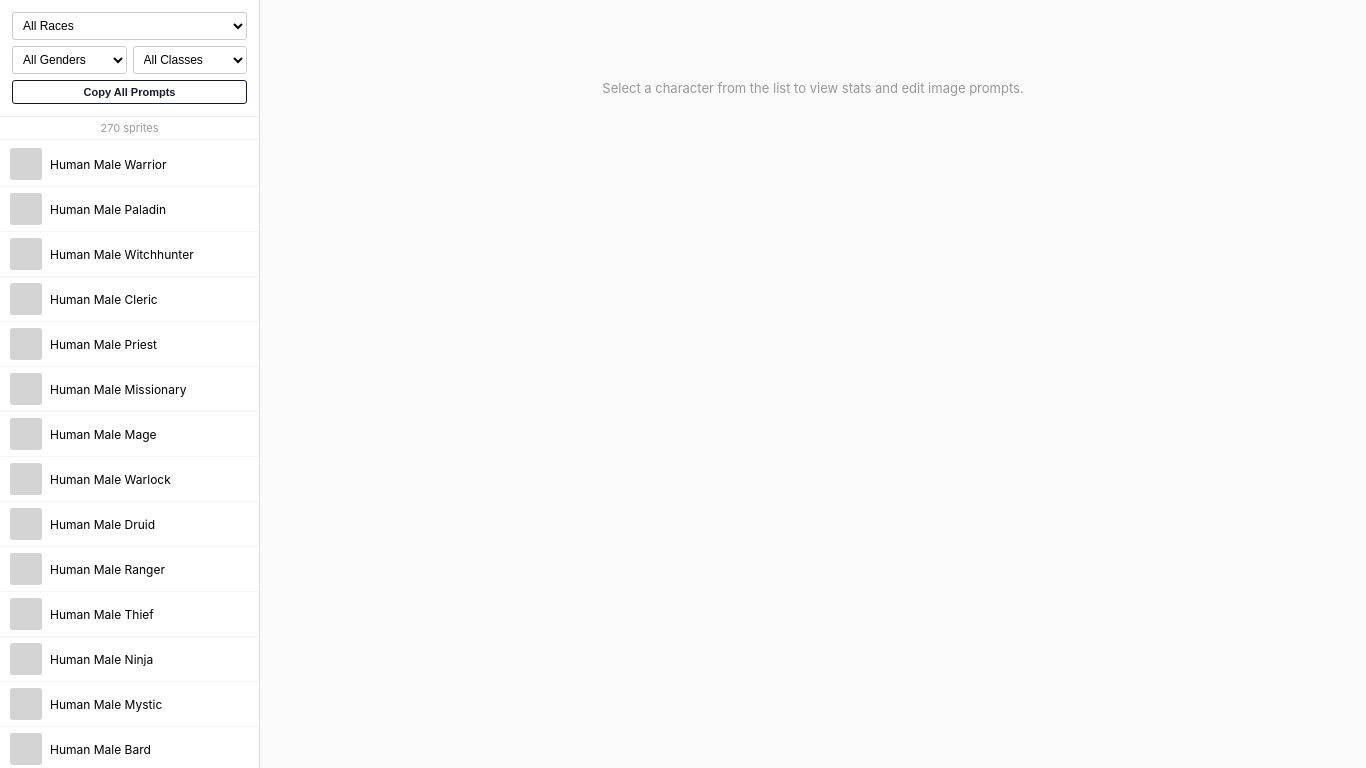
Test case: PcSpriteEditor › combining race and gender filters narrows results
Expected: the text "270 sprites" is shown, [0,117,259,140]
Select "Human" in the 1st dropdown showing "All Races": (130, 26) [12,12,247,40]
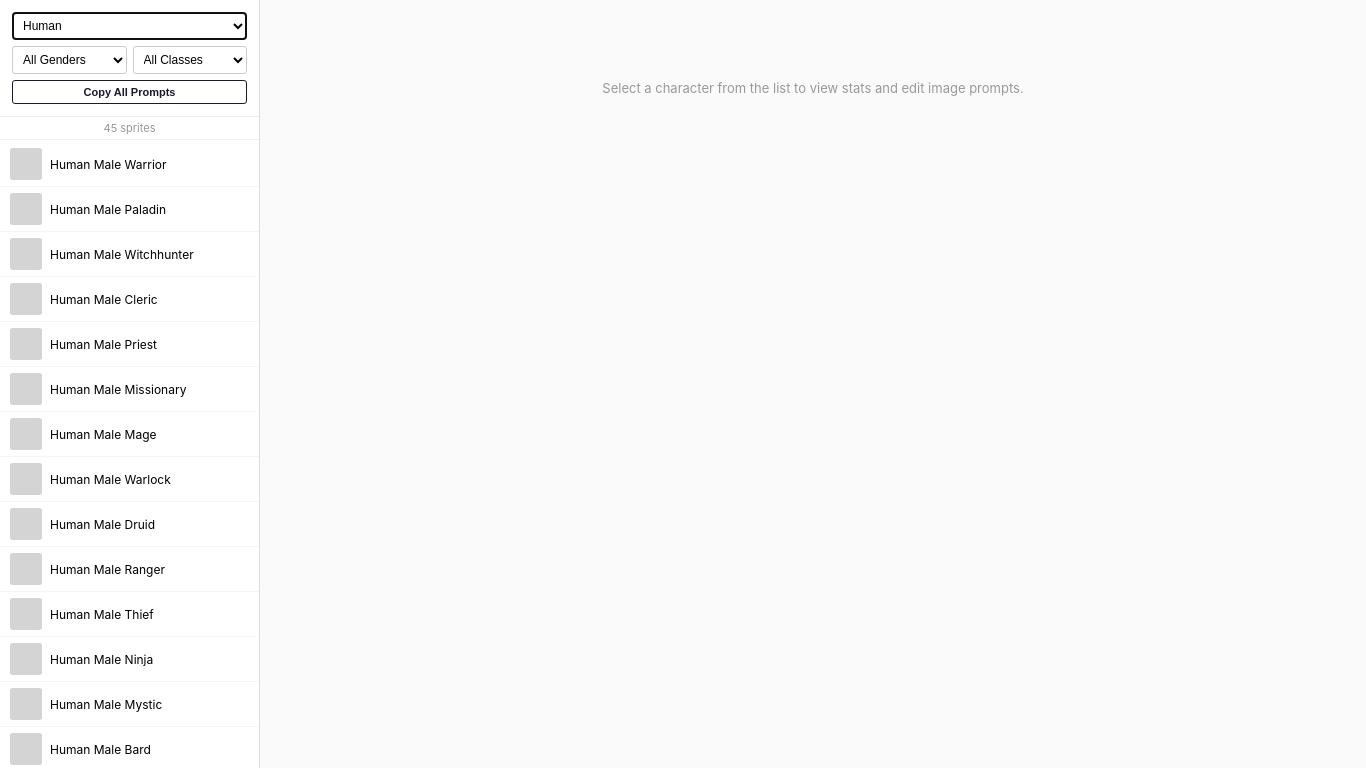
Result: the text "45 sprites" is shown at [0,117,259,140]
Select "Male" in the 2nd dropdown showing "All Genders": (69, 60) [12,46,126,74]
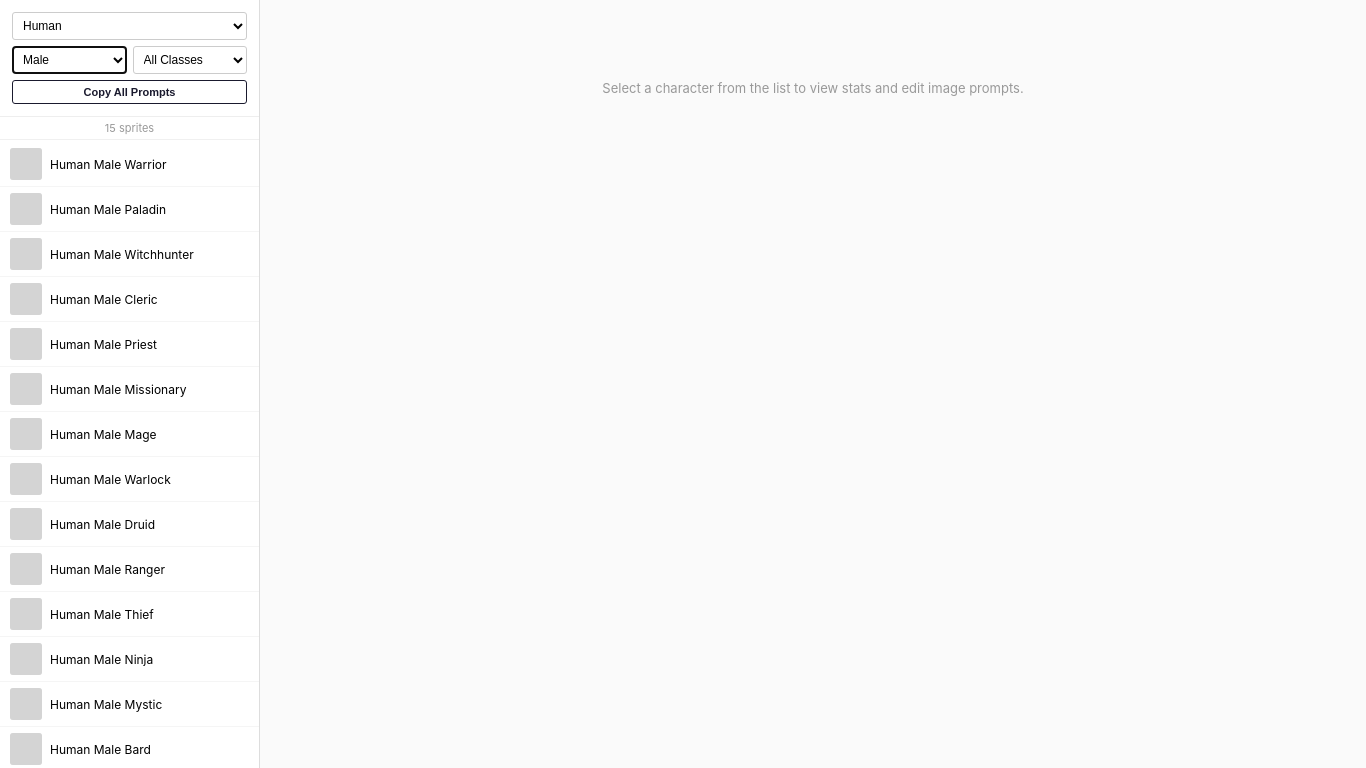
Result: the text "15 sprites" is shown at [0,117,259,140]
